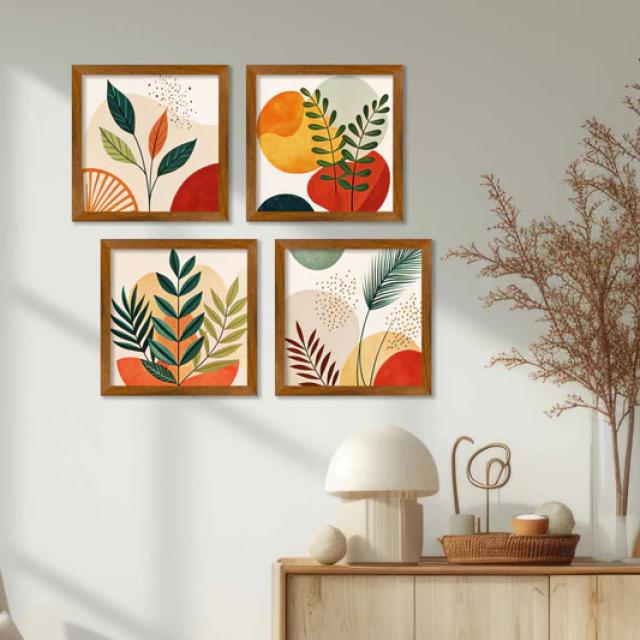painting: (74, 67, 232, 221), (275, 239, 433, 393), (100, 240, 258, 394), (247, 67, 405, 221)
